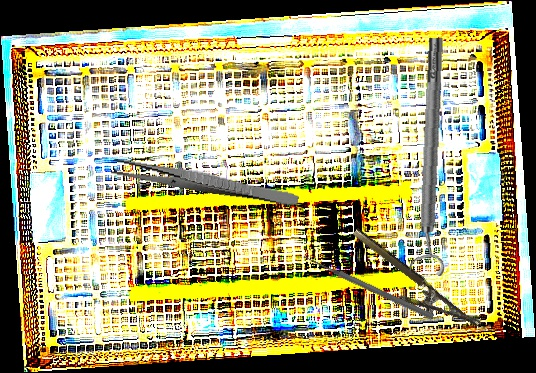Dressing Forceps: (110, 155, 301, 209)
Fixation Ring: (405, 37, 458, 276)
Needle Holder: (339, 226, 482, 348)
Pusher: (300, 251, 436, 322)
